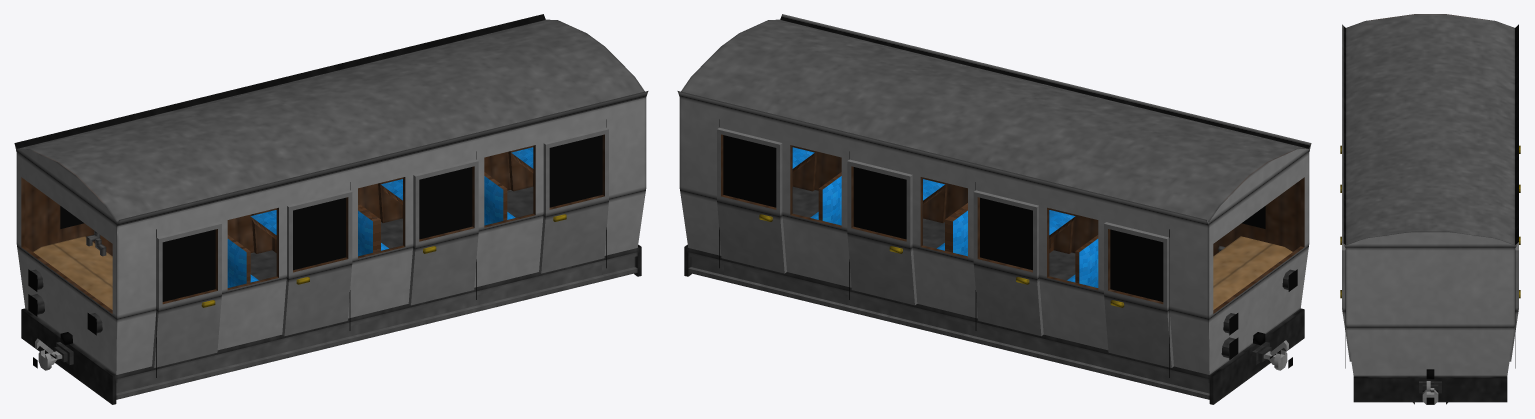
File: kitsune_mk2_coach_pushpull.obj
3 views of the same model, side by side, from view 1: azimuth 30°, elevation 25°; view 2: azimuth 150°, elevation 25°; view 3: azimuth 270°, elevation 25° (orthographic). The views are drawn at different scales.
Parts seen in each view (by area): view 1: FRAME_body, FRAME_body_roof, DOOR_7_EXTERNAL, DOOR_9_EXTERNAL, DOOR_2_EXTERNAL, DOOR_3_EXTERNAL, FRAME_3, FRAME_2, FRAME_body_int, FRAME_1, FRAME_end1, FRAME_0_body.002 (+9 smaller); view 2: FRAME_body, FRAME_body_roof, DOOR_8_EXTERNAL, DOOR_10_EXTERNAL, DOOR_1_EXTERNAL, DOOR_4_EXTERNAL, FRAME_3, FRAME_2, FRAME_body_int, FRAME_1, FRAME_end1, FRAME_0_body.002 (+9 smaller); view 3: FRAME_body_roof, FRAME_body, FRAME_end2, COUPLER_ENGAGED_REAR_2_TOGGLE_LABEL_Uncouple, DOOR_4_EXTERNAL, DOOR_3_EXTERNAL.
Boxes of the visible parts, x1,y1,x2,y2 form: FRAME_body: (14,14,648,374); FRAME_body_roof: (17,19,644,221); DOOR_7_EXTERNAL: (282,190,352,336); DOOR_9_EXTERNAL: (408,159,478,305); DOOR_2_EXTERNAL: (152,222,221,367); DOOR_3_EXTERNAL: (539,127,608,273); FRAME_3: (381,190,604,317); FRAME_2: (250,241,451,354); FRAME_body_int: (21,145,533,313); FRAME_1: (147,332,301,391); FRAME_end1: (21,308,149,404); FRAME_0_body.002: (33,236,112,309); FRAME_body: (677,14,1311,374); FRAME_body_roof: (681,19,1308,221); DOOR_8_EXTERNAL: (973,190,1043,336); DOOR_10_EXTERNAL: (847,159,917,305); DOOR_1_EXTERNAL: (1104,222,1173,367); DOOR_4_EXTERNAL: (717,127,786,273); FRAME_3: (721,190,944,317); FRAME_2: (874,241,1075,354); FRAME_body_int: (792,145,1304,313); FRAME_1: (1024,332,1178,391); FRAME_end1: (1176,308,1304,404); FRAME_0_body.002: (1213,236,1292,309); FRAME_body_roof: (1346,14,1514,245); FRAME_body: (1342,24,1518,376); FRAME_end2: (1353,376,1507,402); COUPLER_ENGAGED_REAR_2_TOGGLE_LABEL_Uncouple: (1419,381,1441,404); DOOR_4_EXTERNAL: (1509,242,1520,361); DOOR_3_EXTERNAL: (1340,242,1351,361).
Bounding box in the file's own units: 9.38 × 3.31 × 2.94.
Materials: 7 (7 with a texture image).
